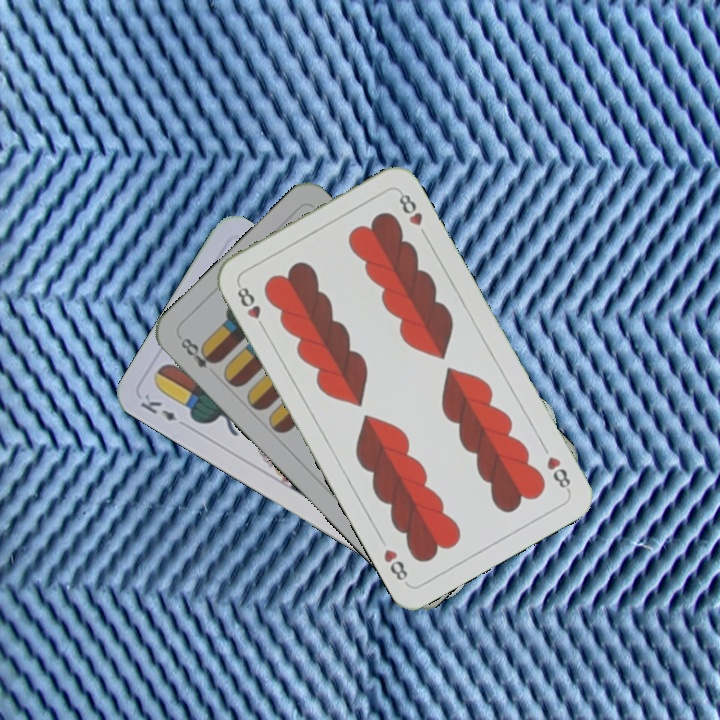E8: (175, 332, 221, 372)
EK: (136, 390, 179, 424)
H8: (233, 279, 269, 333), (542, 452, 573, 495)
